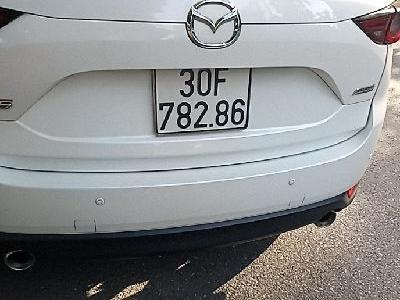car: (151, 67, 250, 135)
